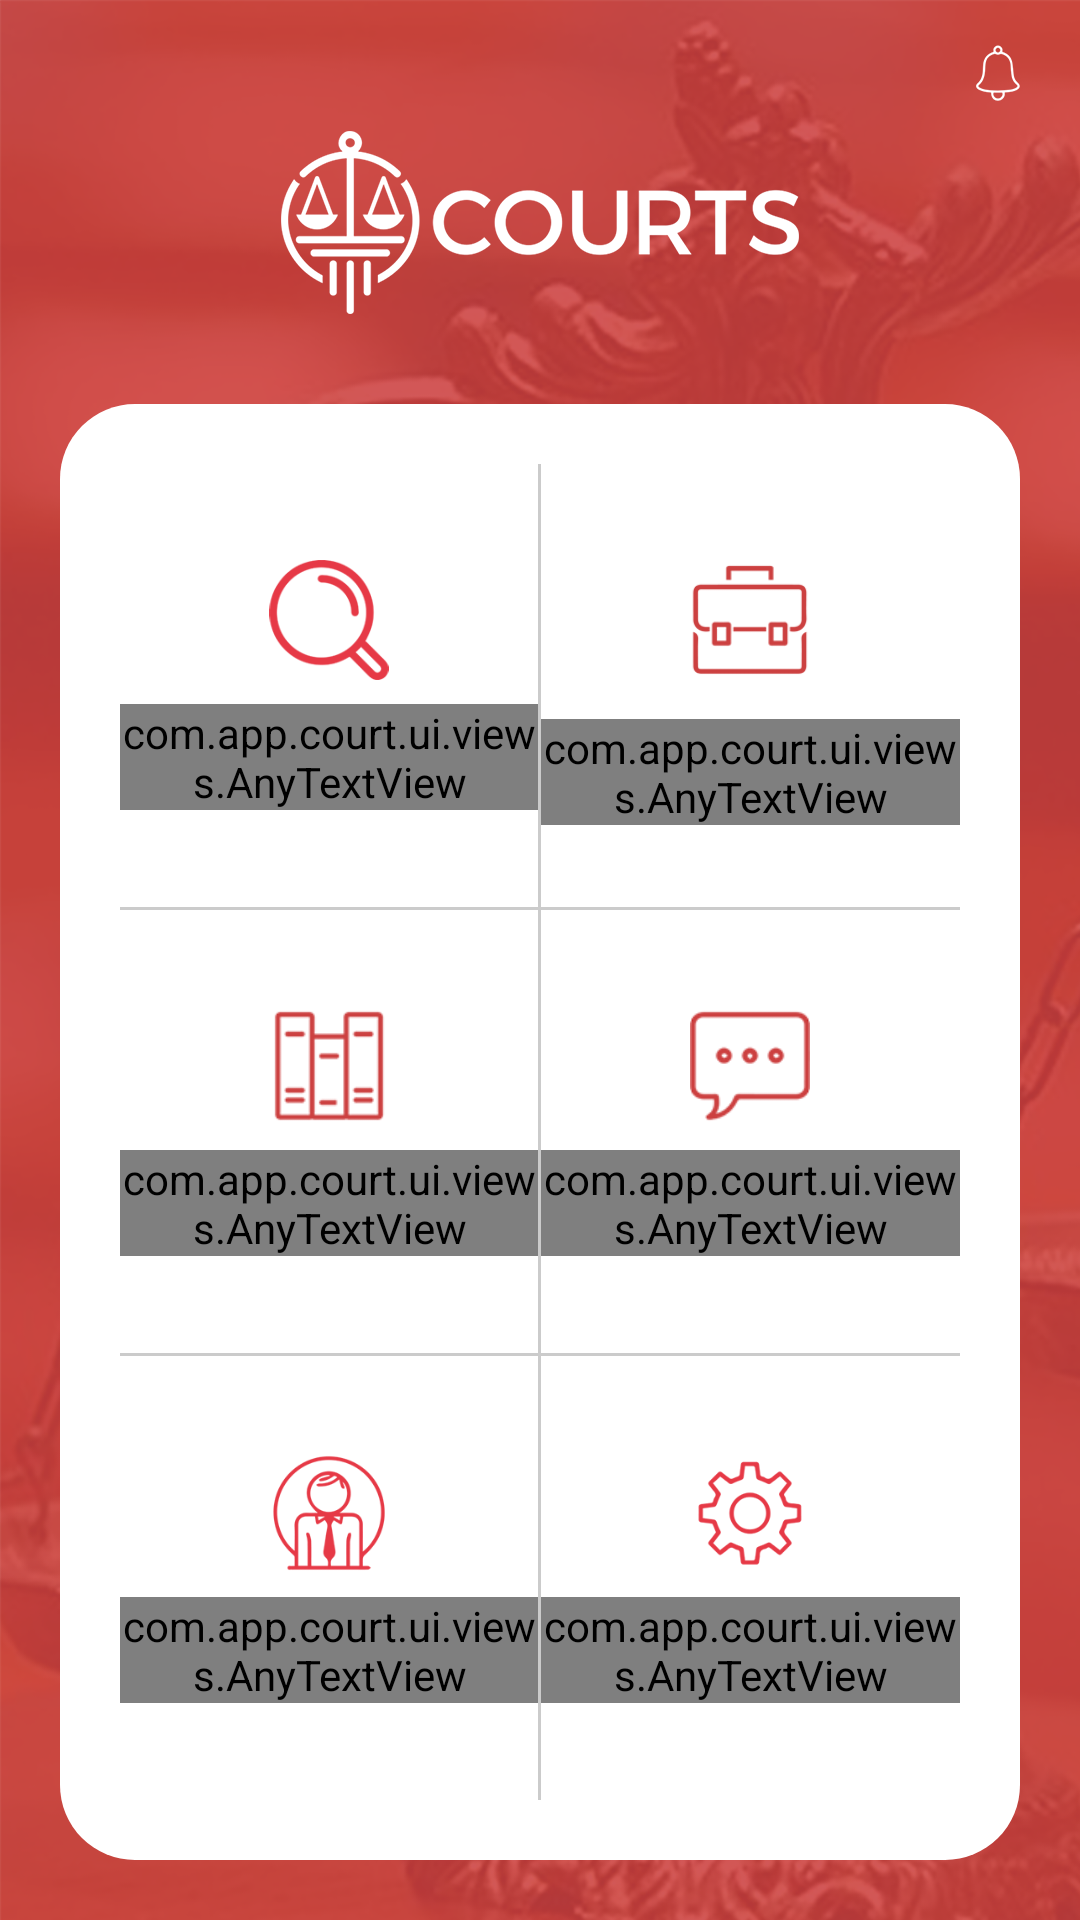

Screen size 1080x1920. Icon name, then its center in pixels as point (x, y):
case: point (750, 619)
library: point (329, 1065)
messages: point (750, 1065)
myprofile: point (329, 1513)
notification: point (998, 73)
search home: point (329, 620)
settings: point (750, 1513)
